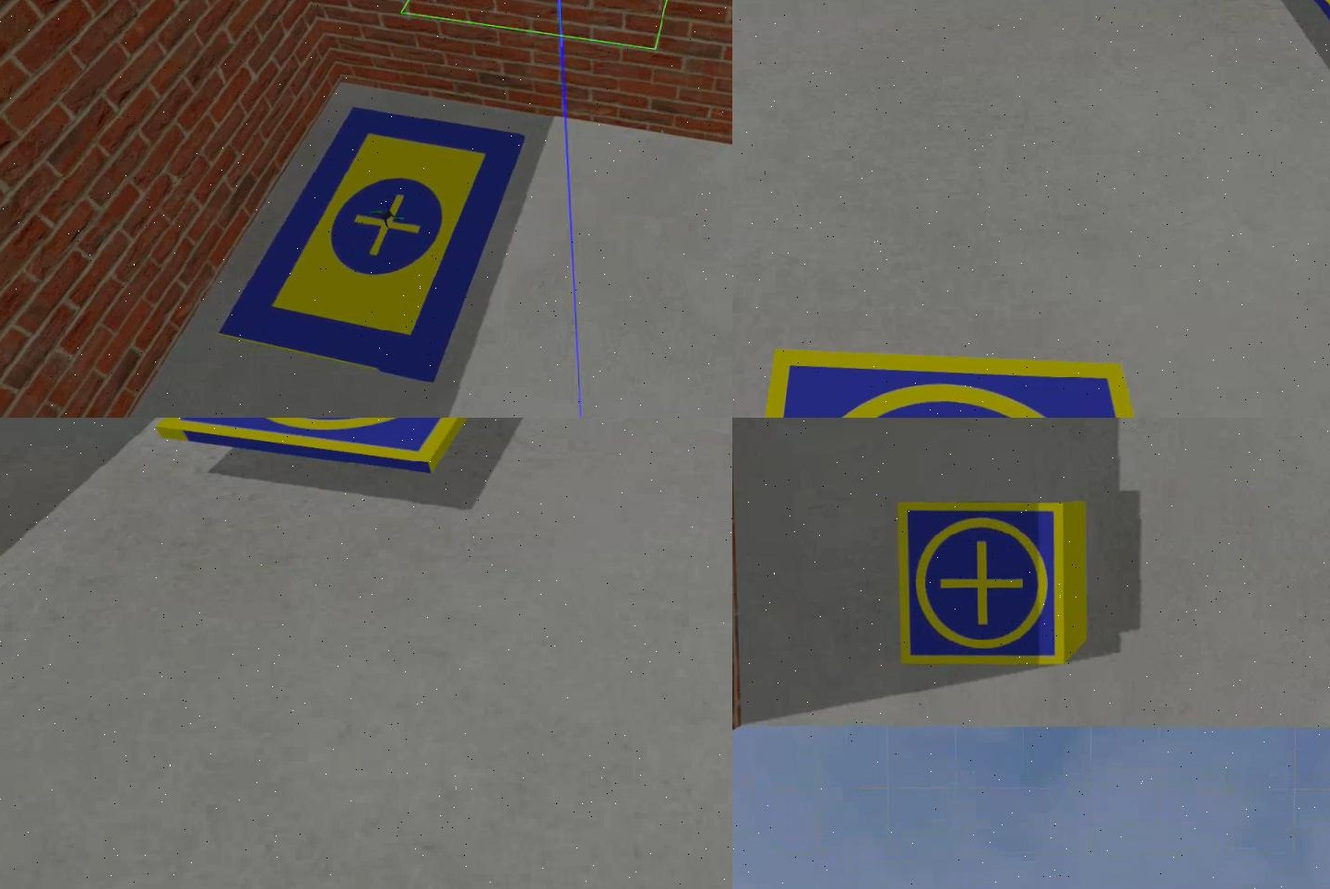large_base: (212, 103, 530, 391)
small_base: (894, 498, 1071, 671), (153, 419, 491, 480)
